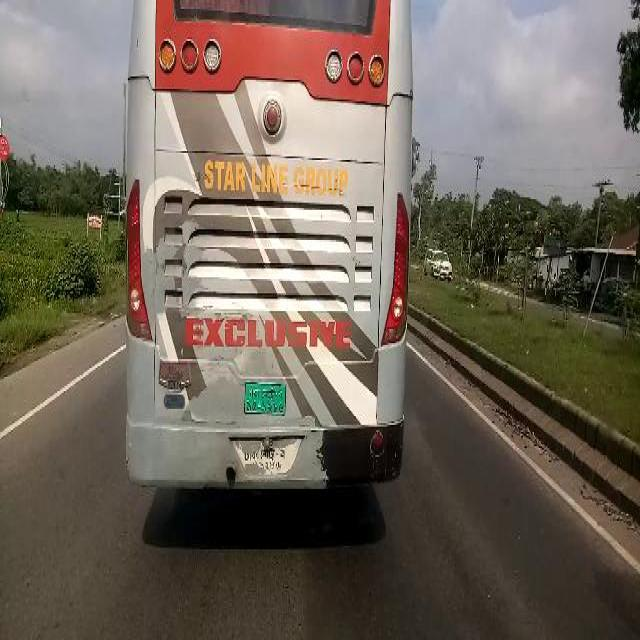bus: (123, 2, 407, 482)
car: (426, 246, 452, 280)
